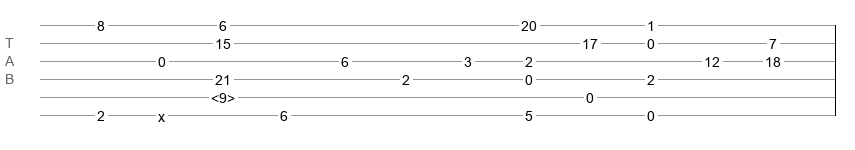0: (158, 54, 166, 64), (525, 72, 533, 82), (586, 90, 594, 100), (647, 108, 655, 118), (647, 36, 655, 46)
1: (647, 18, 655, 28)
12: (704, 54, 720, 64)
15: (215, 36, 231, 46)
17: (582, 36, 598, 46)
18: (765, 54, 781, 64)
2: (97, 108, 105, 118), (402, 72, 410, 82), (525, 54, 533, 64), (647, 72, 655, 82)
20: (521, 18, 537, 28)
21: (215, 72, 231, 82)
3: (464, 54, 472, 64)
5: (525, 108, 533, 118)
6: (219, 18, 227, 28), (280, 108, 288, 118), (341, 54, 349, 64)
7: (769, 36, 777, 46)
8: (97, 18, 105, 28)
harmonic: (211, 90, 235, 100)
x: (158, 109, 165, 117)
